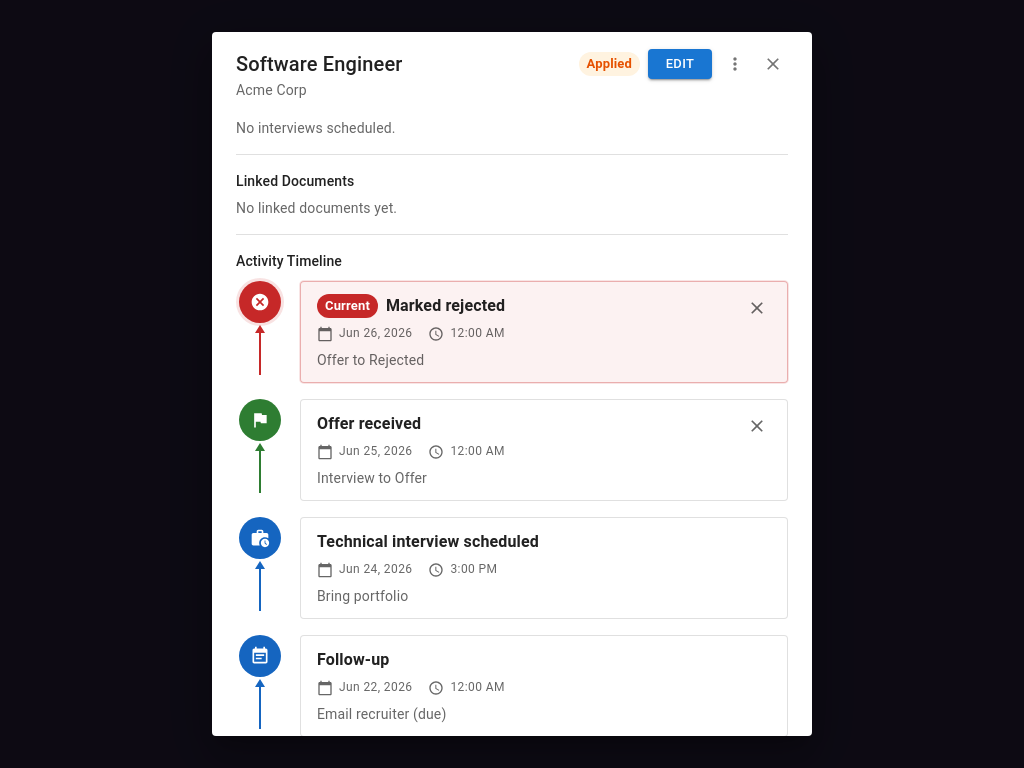
JobDetailDialog › asks for confirmation before deleting a stage history event
(page scrolled)
Click the button named "delete offer received history".
click(757, 426)  # box [743, 412, 771, 440]
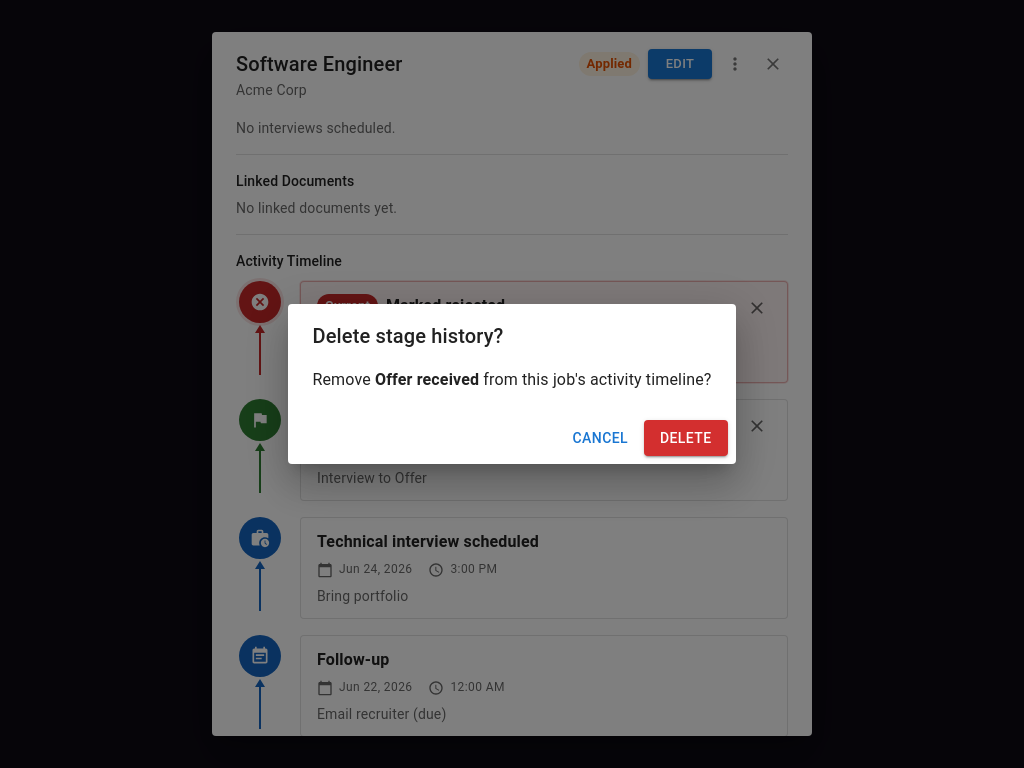
Expected: the heading "Delete stage history?" is shown, [312, 324, 504, 348]
Expected: the text "Remove Offer received from this job's activity timeline?" is shown, [312, 368, 712, 392]
